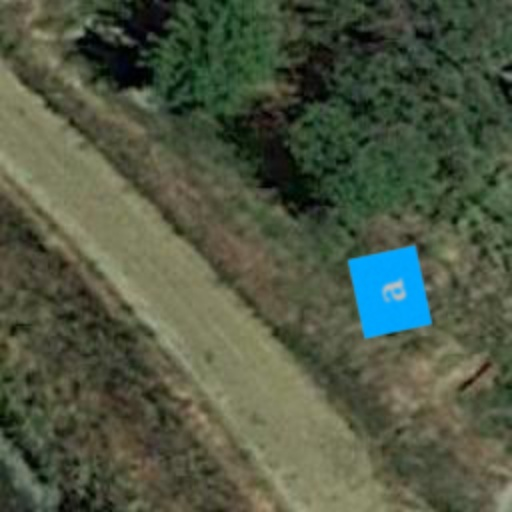rectangle: (340, 242, 440, 342)
